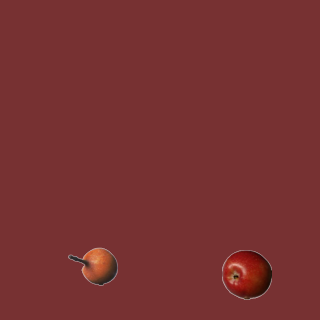Apple Braeburn: (221, 249, 271, 299)
Granadilla: (67, 241, 117, 291)
